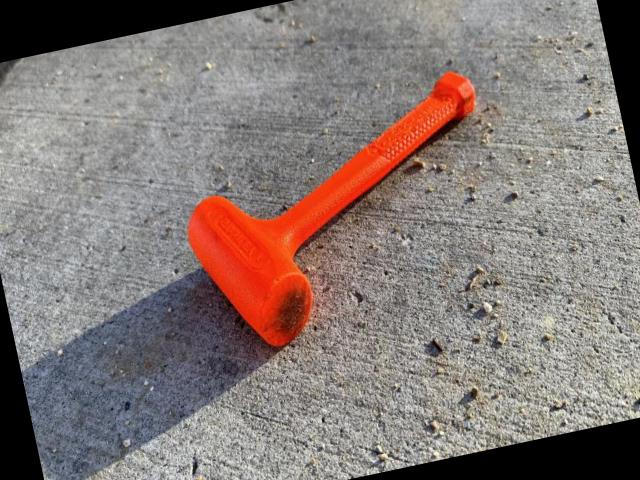hammer: (165, 65, 518, 360)
